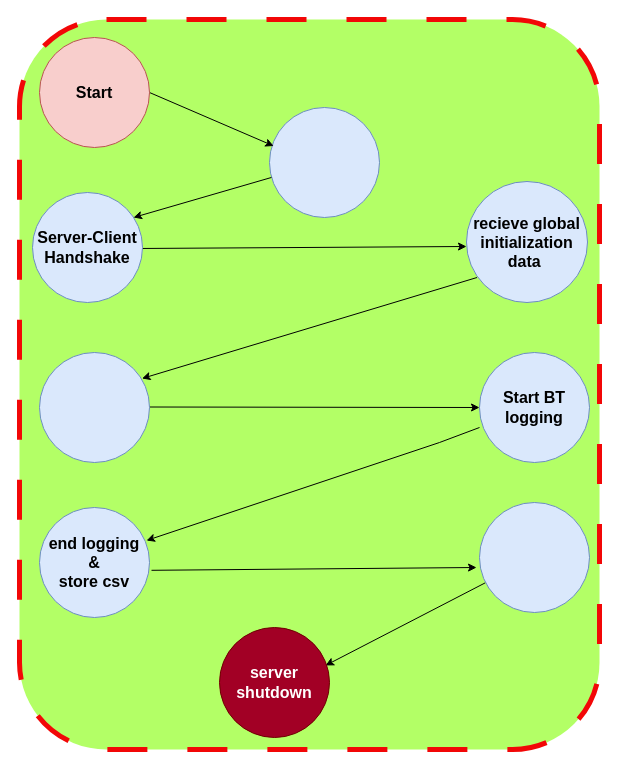
Image size: 619x769. Some labels were removed from this diagram. Here are the shapes that lost their labels. From the top down, the box of each, then its label:
(268, 106, 380, 218): Listening!
(38, 352, 150, 462): get kernel specific info
(478, 502, 590, 612): exit from listing loop
